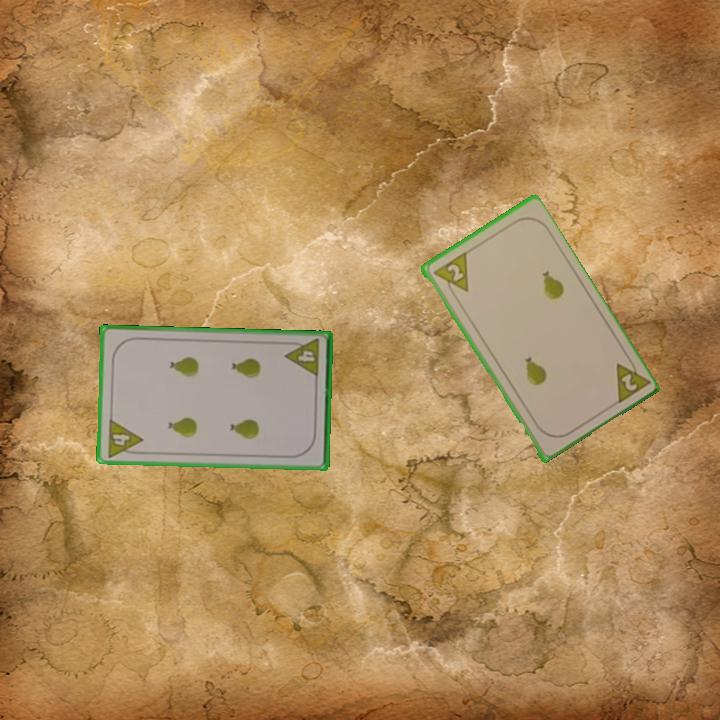2p: (611, 352, 651, 407), (429, 249, 471, 300)
4p: (104, 415, 145, 460), (282, 335, 322, 380)
